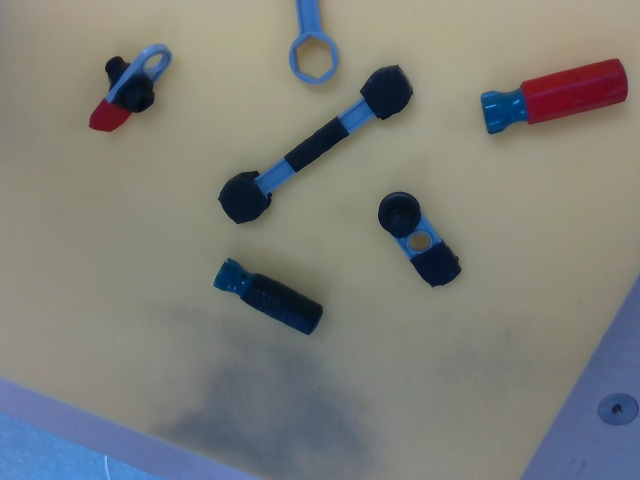part_1_good: (85, 42, 176, 136)
